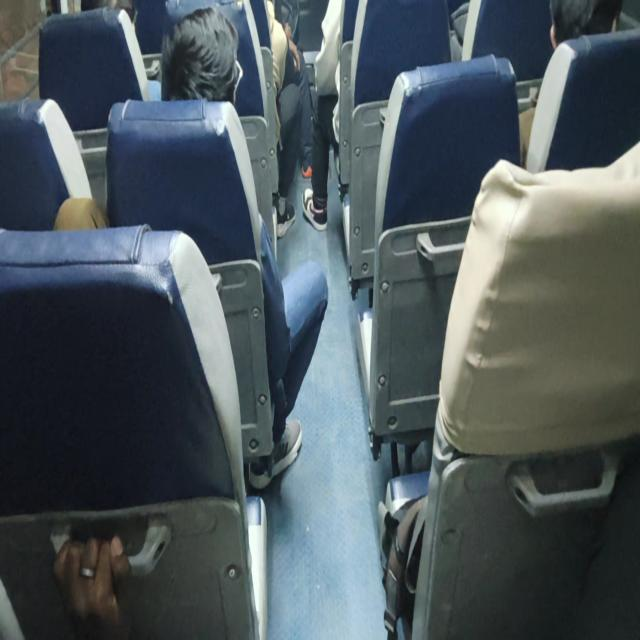person: (169, 10, 239, 106), (534, 0, 634, 34), (64, 0, 145, 31)
